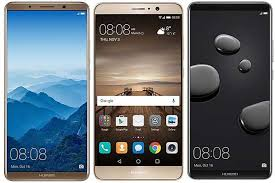huawei: (185, 2, 275, 181), (93, 1, 183, 179), (1, 1, 90, 180)
